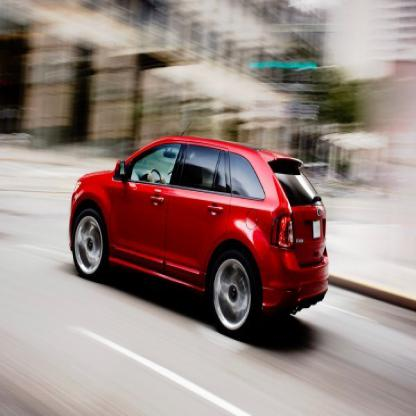Vehicle: (69, 123, 332, 342)
